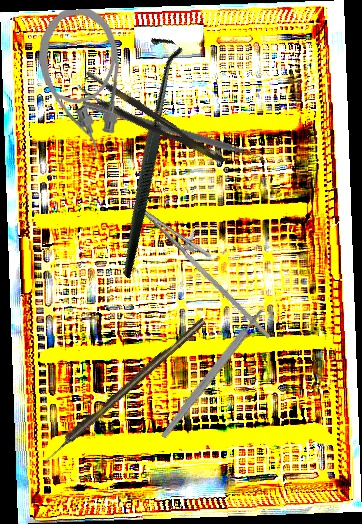Cannula: (36, 7, 124, 158)
Hook Surgical: (24, 29, 264, 280), (40, 316, 208, 465)
Needle Holder: (126, 196, 293, 340)
Scalpel Handle: (159, 307, 266, 440)
Spatula Surgical: (79, 99, 269, 169)
Tissue Forceps: (75, 69, 227, 177)
